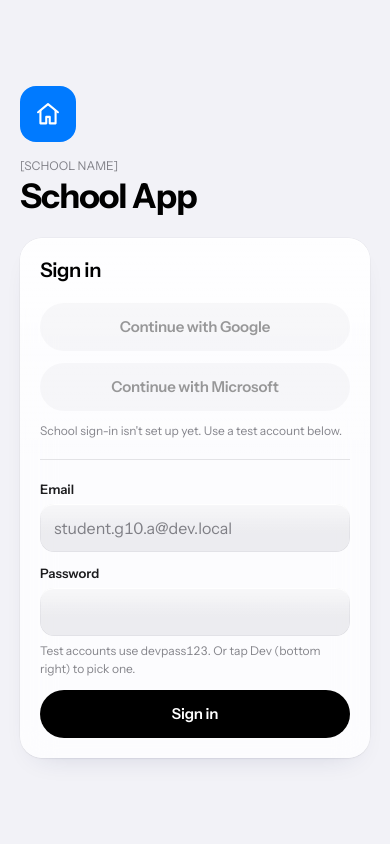
LoginPage (dev mode) › asks for both fields before trying to sign in
Click the button "Sign in" at (195, 714), box [40, 690, 350, 738]
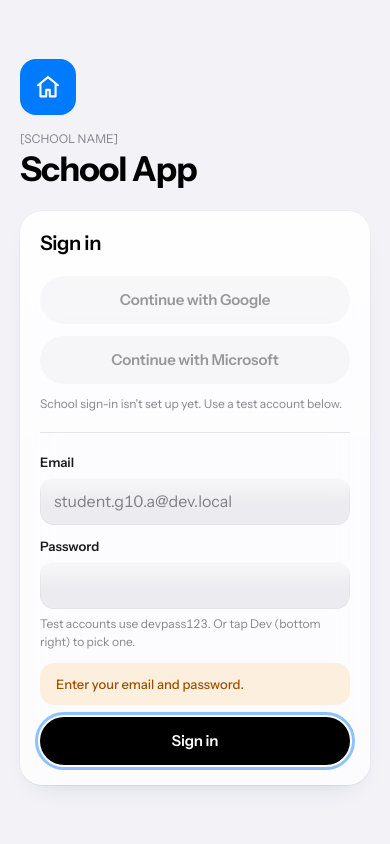
Expected: the message reads "Enter your email and password.", [56, 676, 244, 692]
